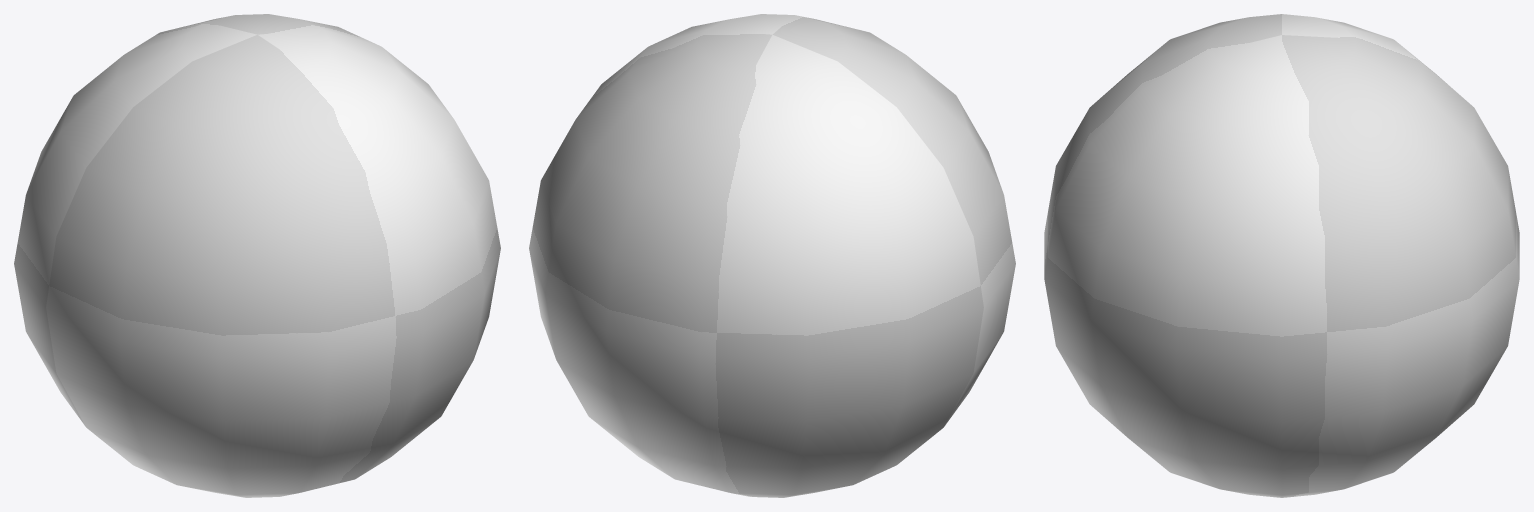
The model's file is floorBall.glb.
3 views of the same model, side by side, from view 1: azimuth 30°, elevation 25°; view 2: azimuth 150°, elevation 25°; view 3: azimuth 270°, elevation 25° (orthographic).
Parts seen in each view (by area): view 1: dyn_color_tint; view 2: dyn_color_tint; view 3: dyn_color_tint.
Part boxes in pixels (box(x1,y1,x2,y2)): dyn_color_tint: box(14, 14, 500, 497); dyn_color_tint: box(529, 14, 1015, 497); dyn_color_tint: box(1044, 14, 1519, 497).
Size of the model in its own units: 0.3001 by 0.3001 by 0.2926.
Materials: 1 (1 with a texture image).
